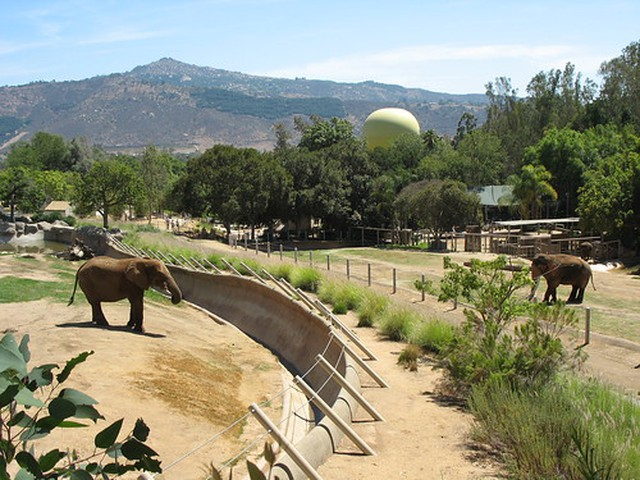Elephant: (66, 255, 185, 332), (527, 253, 594, 307)
